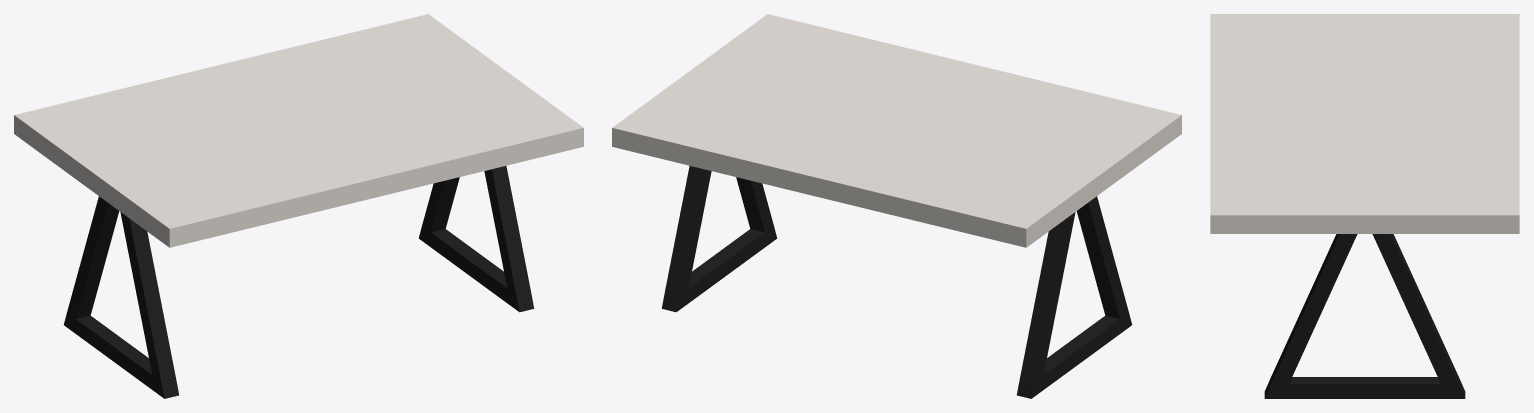
The model's file is cnlounge_desk2.fbx.
3 views of the same model, side by side, from view 1: azimuth 30°, elevation 25°; view 2: azimuth 150°, elevation 25°; view 3: azimuth 270°, elevation 25° (orthographic).
Parts seen in each view (by area): view 1: cnlounge_desk2; view 2: cnlounge_desk2; view 3: cnlounge_desk2.
Part boxes in pixels (x1,y1,x2,y2): cnlounge_desk2: [14, 14, 583, 398]; cnlounge_desk2: [612, 14, 1181, 398]; cnlounge_desk2: [1210, 14, 1519, 398].
Size of the model in its own units: 0.0124 by 0.0056 by 0.00807.
Materials: 1 (1 with a texture image).
